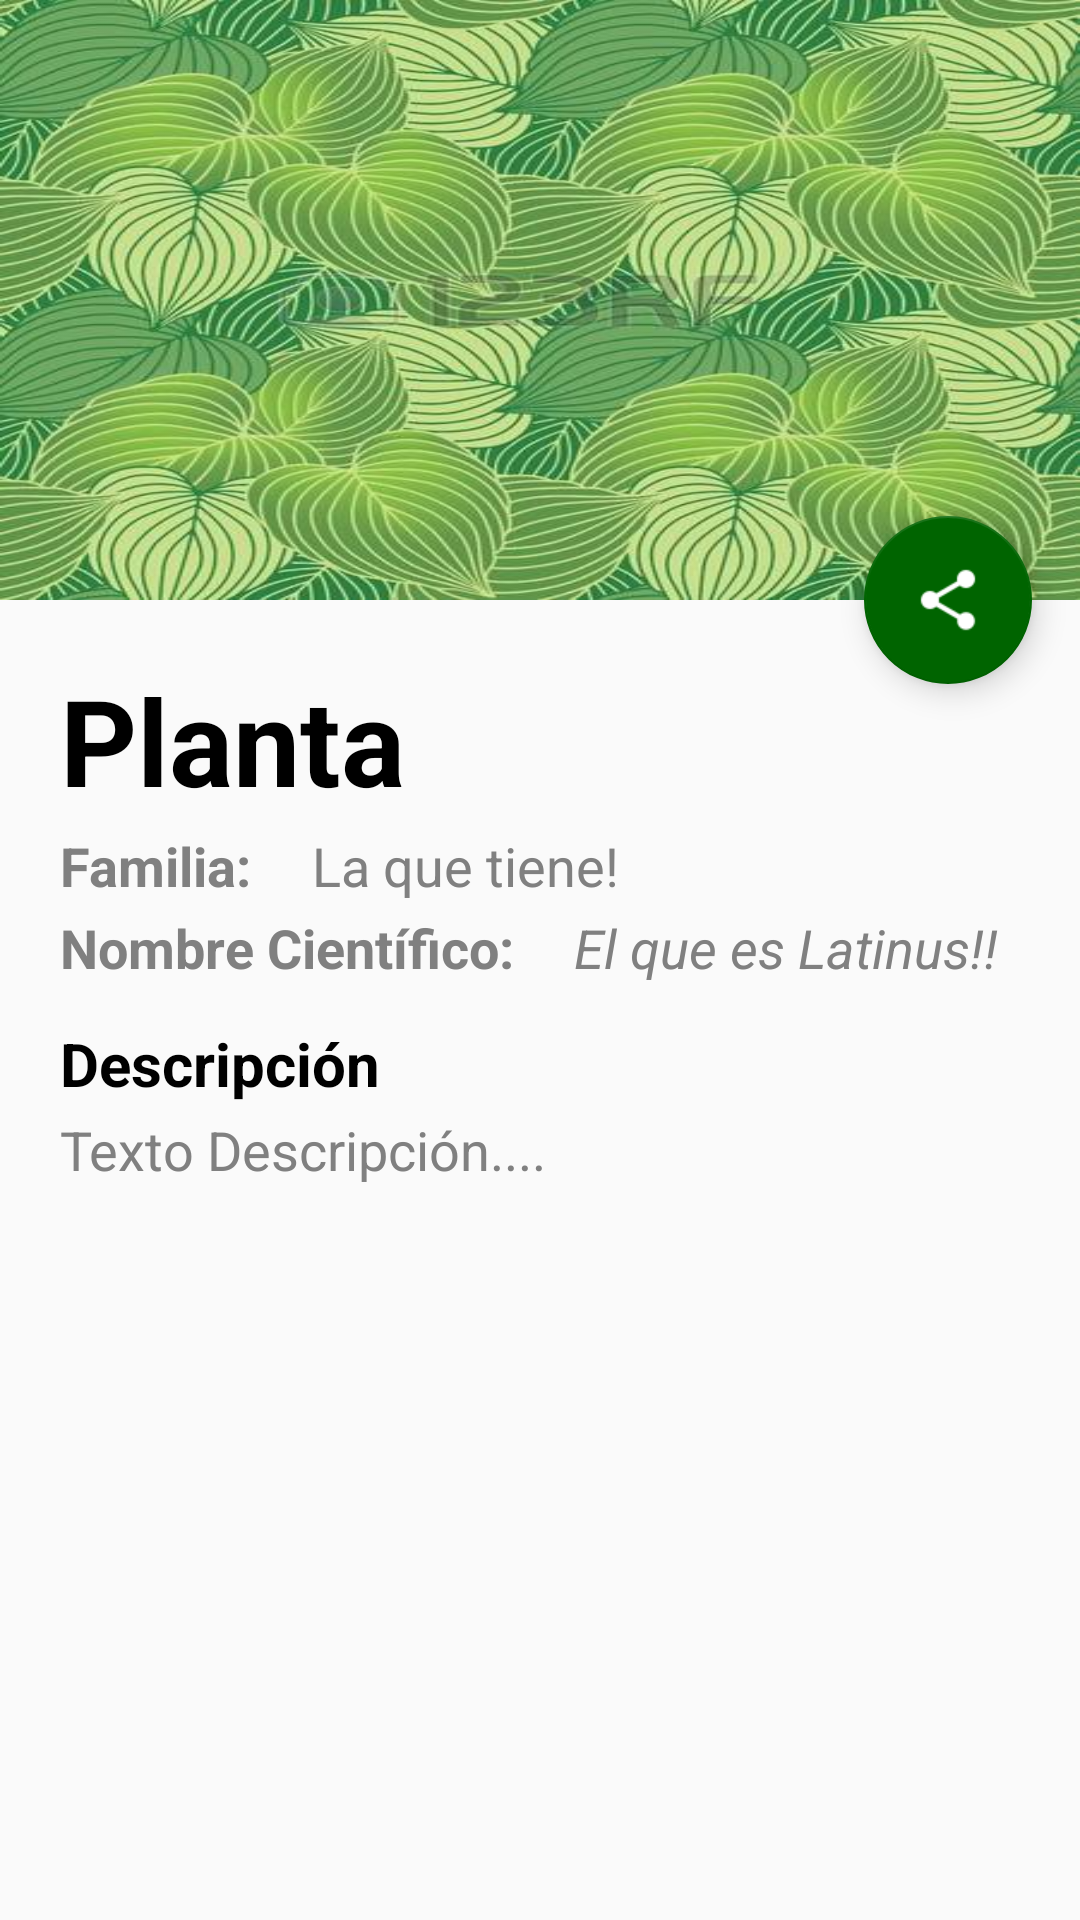

Where to tap for icons on this 1080 × 1920 app screen, as (x,y):
share: (948,600)
